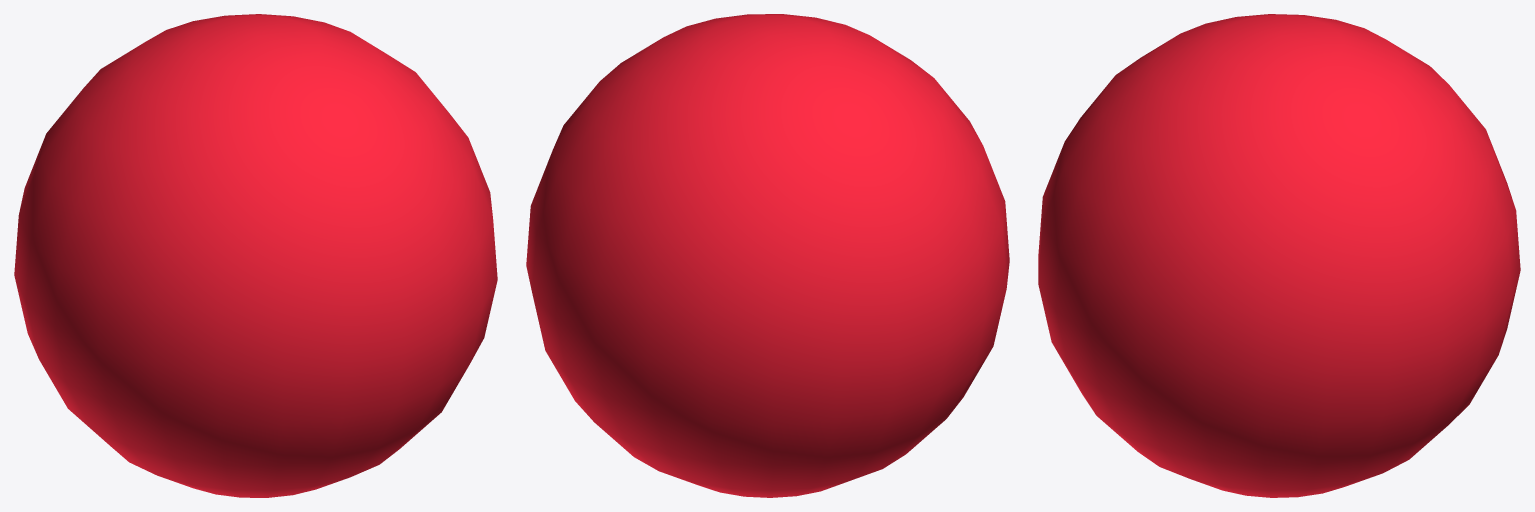
Rendered from peach.FBX.
3 views of the same model, side by side, from view 1: azimuth 30°, elevation 25°; view 2: azimuth 150°, elevation 25°; view 3: azimuth 270°, elevation 25° (orthographic).
Visible parts, largest first — view 1: Sphere001; view 2: Sphere001; view 3: Sphere001.
Part boxes in pixels (x1,y1,x2,y2): Sphere001: (14, 14, 497, 497); Sphere001: (526, 14, 1009, 497); Sphere001: (1038, 14, 1520, 497).
Bounding box in the file's own units: 19.91 × 20 × 19.86.
